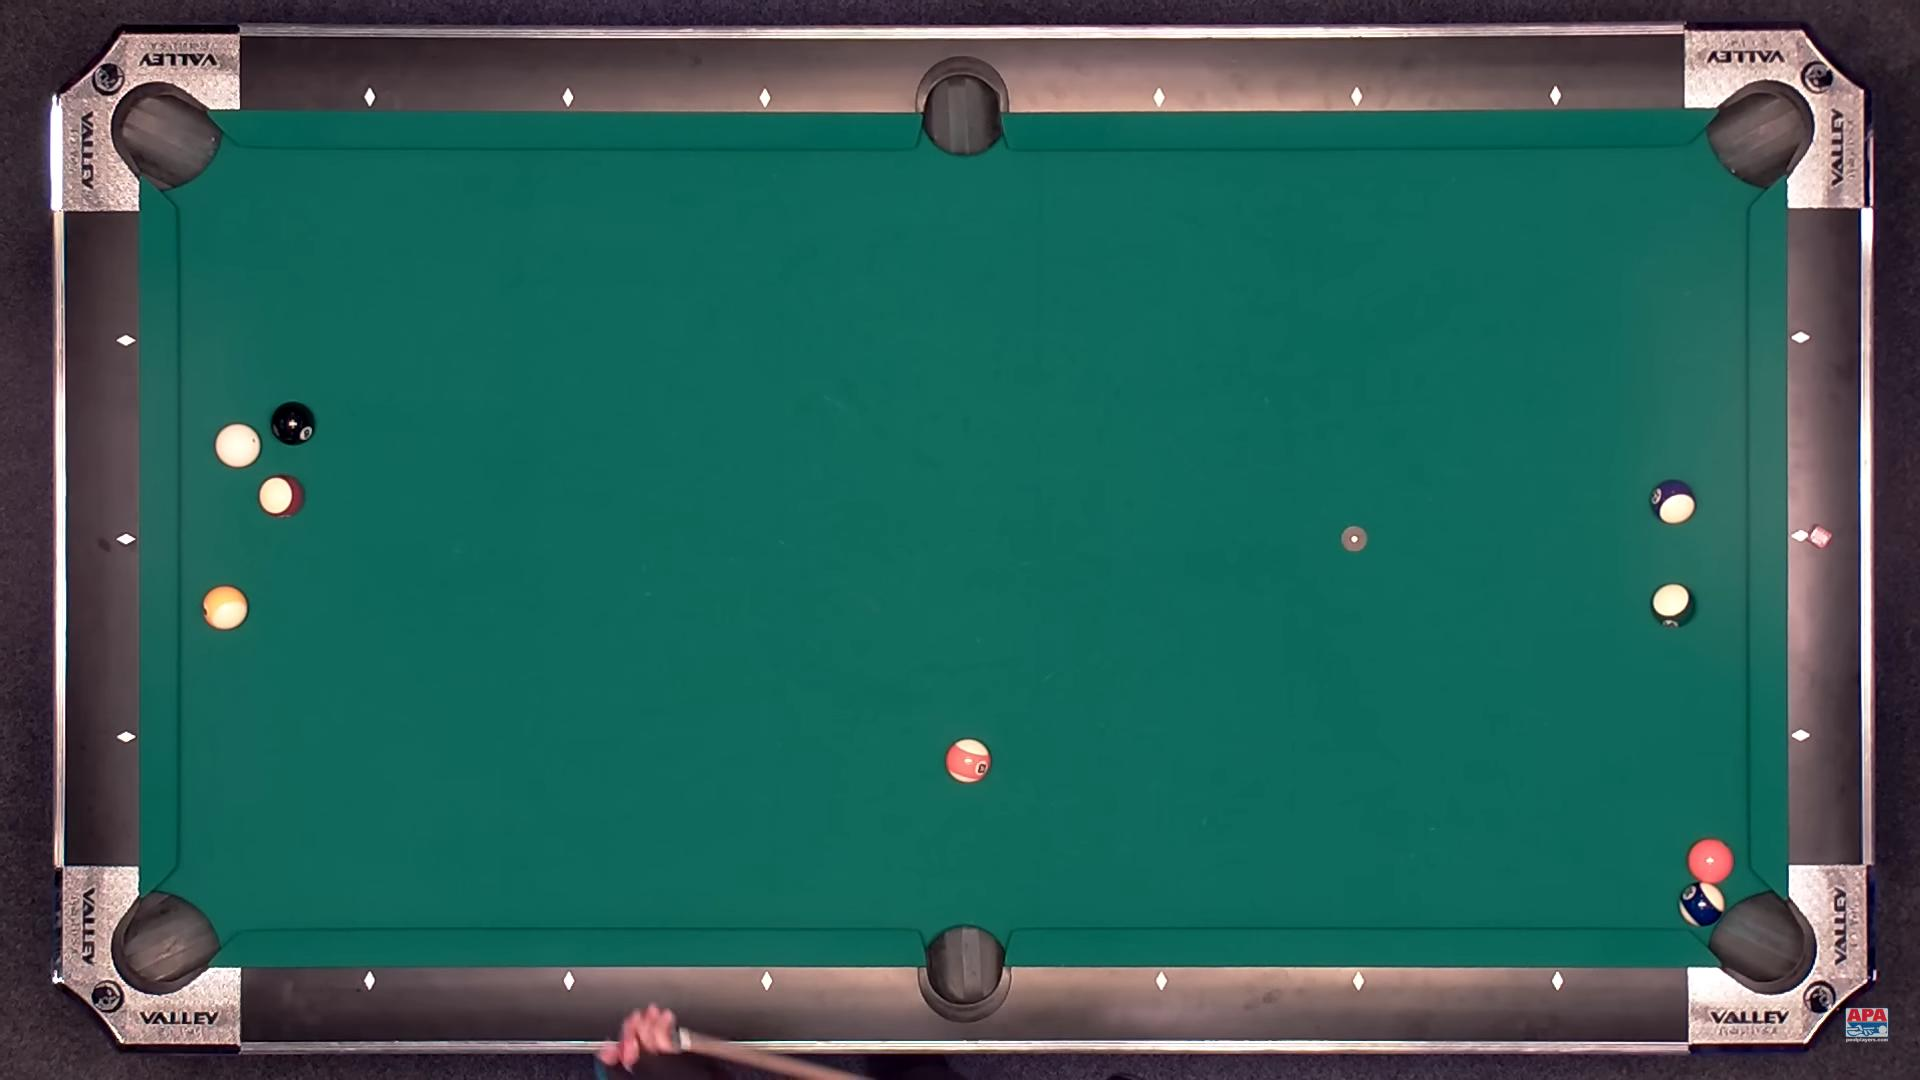Black: (272, 402, 316, 446)
Cue: (215, 423, 261, 468)
Dot: (757, 91, 771, 105), (1548, 88, 1563, 103), (1153, 975, 1167, 989), (560, 975, 575, 989), (363, 90, 377, 103), (562, 91, 575, 105), (1151, 90, 1164, 104), (1792, 331, 1807, 344), (1792, 530, 1807, 543), (1793, 729, 1808, 742), (1350, 976, 1365, 989), (363, 975, 376, 989), (117, 729, 132, 742), (119, 334, 132, 348), (1352, 91, 1365, 104), (1552, 976, 1565, 989), (760, 975, 773, 988), (119, 531, 132, 545)
Solid: (1689, 839, 1735, 881)
Striped: (1679, 882, 1726, 927), (1651, 480, 1697, 525), (945, 738, 992, 783), (1651, 583, 1696, 628), (202, 585, 248, 629), (260, 475, 302, 518)
